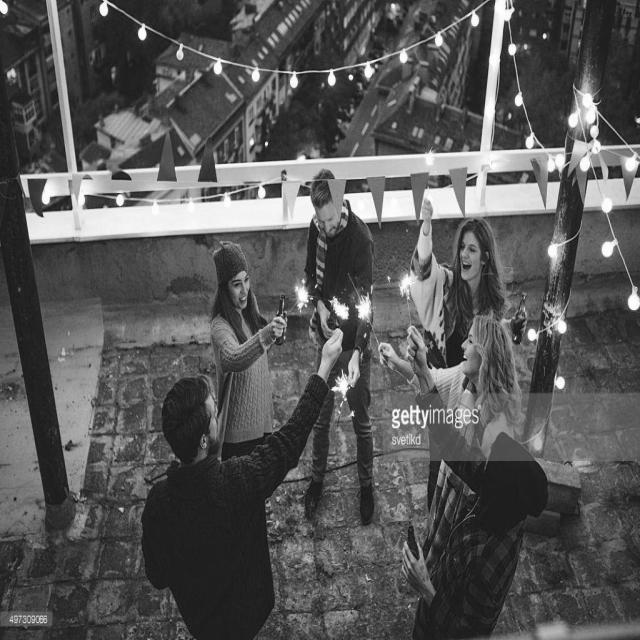person: (376, 200, 556, 640), (140, 344, 346, 640), (285, 169, 380, 491), (439, 418, 554, 640), (208, 242, 288, 462), (412, 203, 516, 328)
